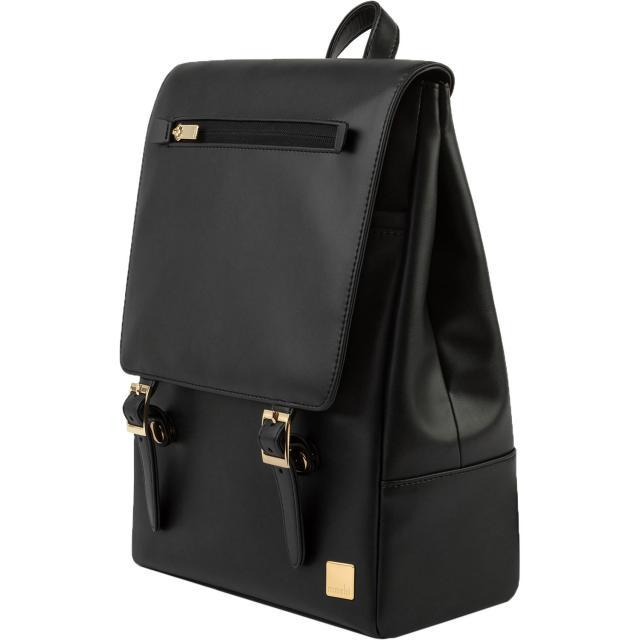Backpacks: (116, 55, 524, 637)
